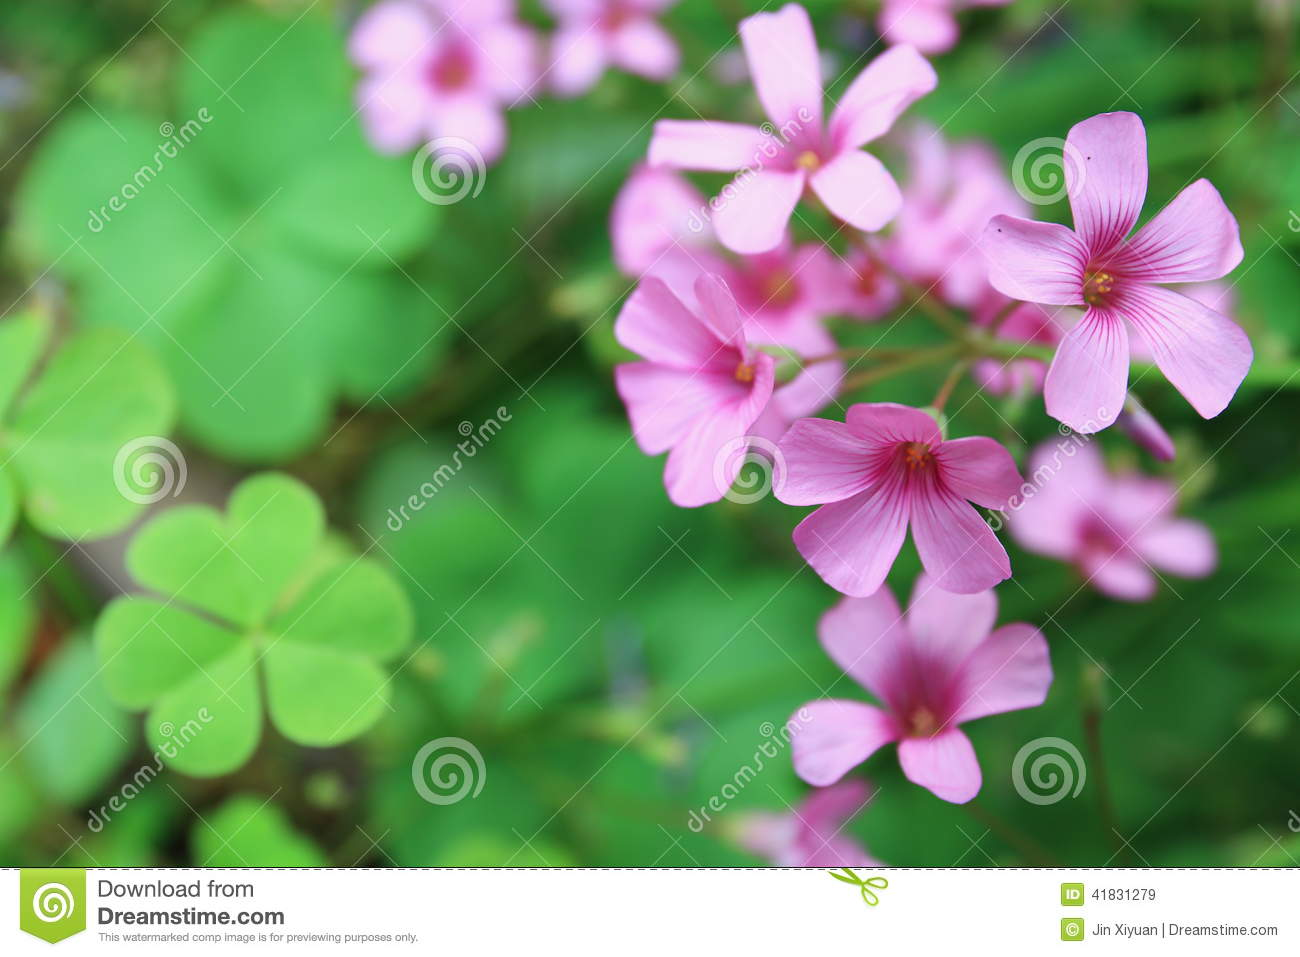oxalis: (93, 454, 385, 794), (4, 304, 213, 531)
